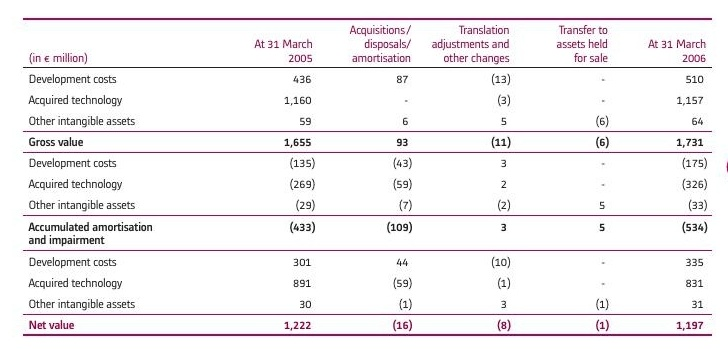table: (0, 0, 728, 349)
